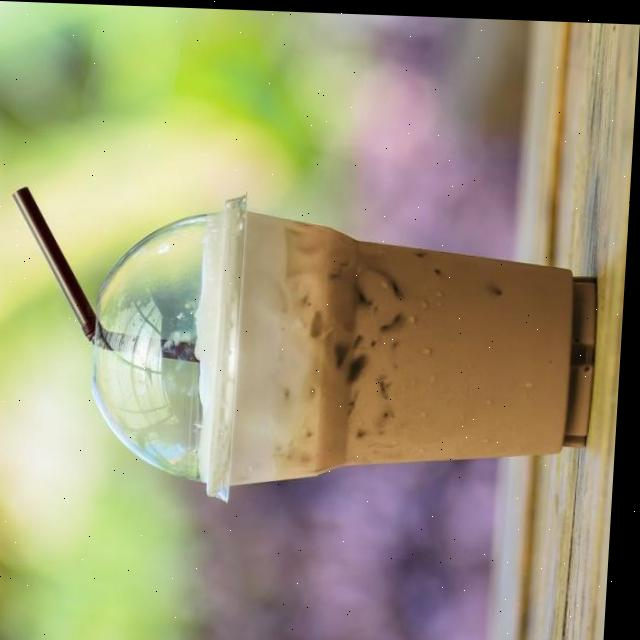cup: (64, 175, 632, 499)
